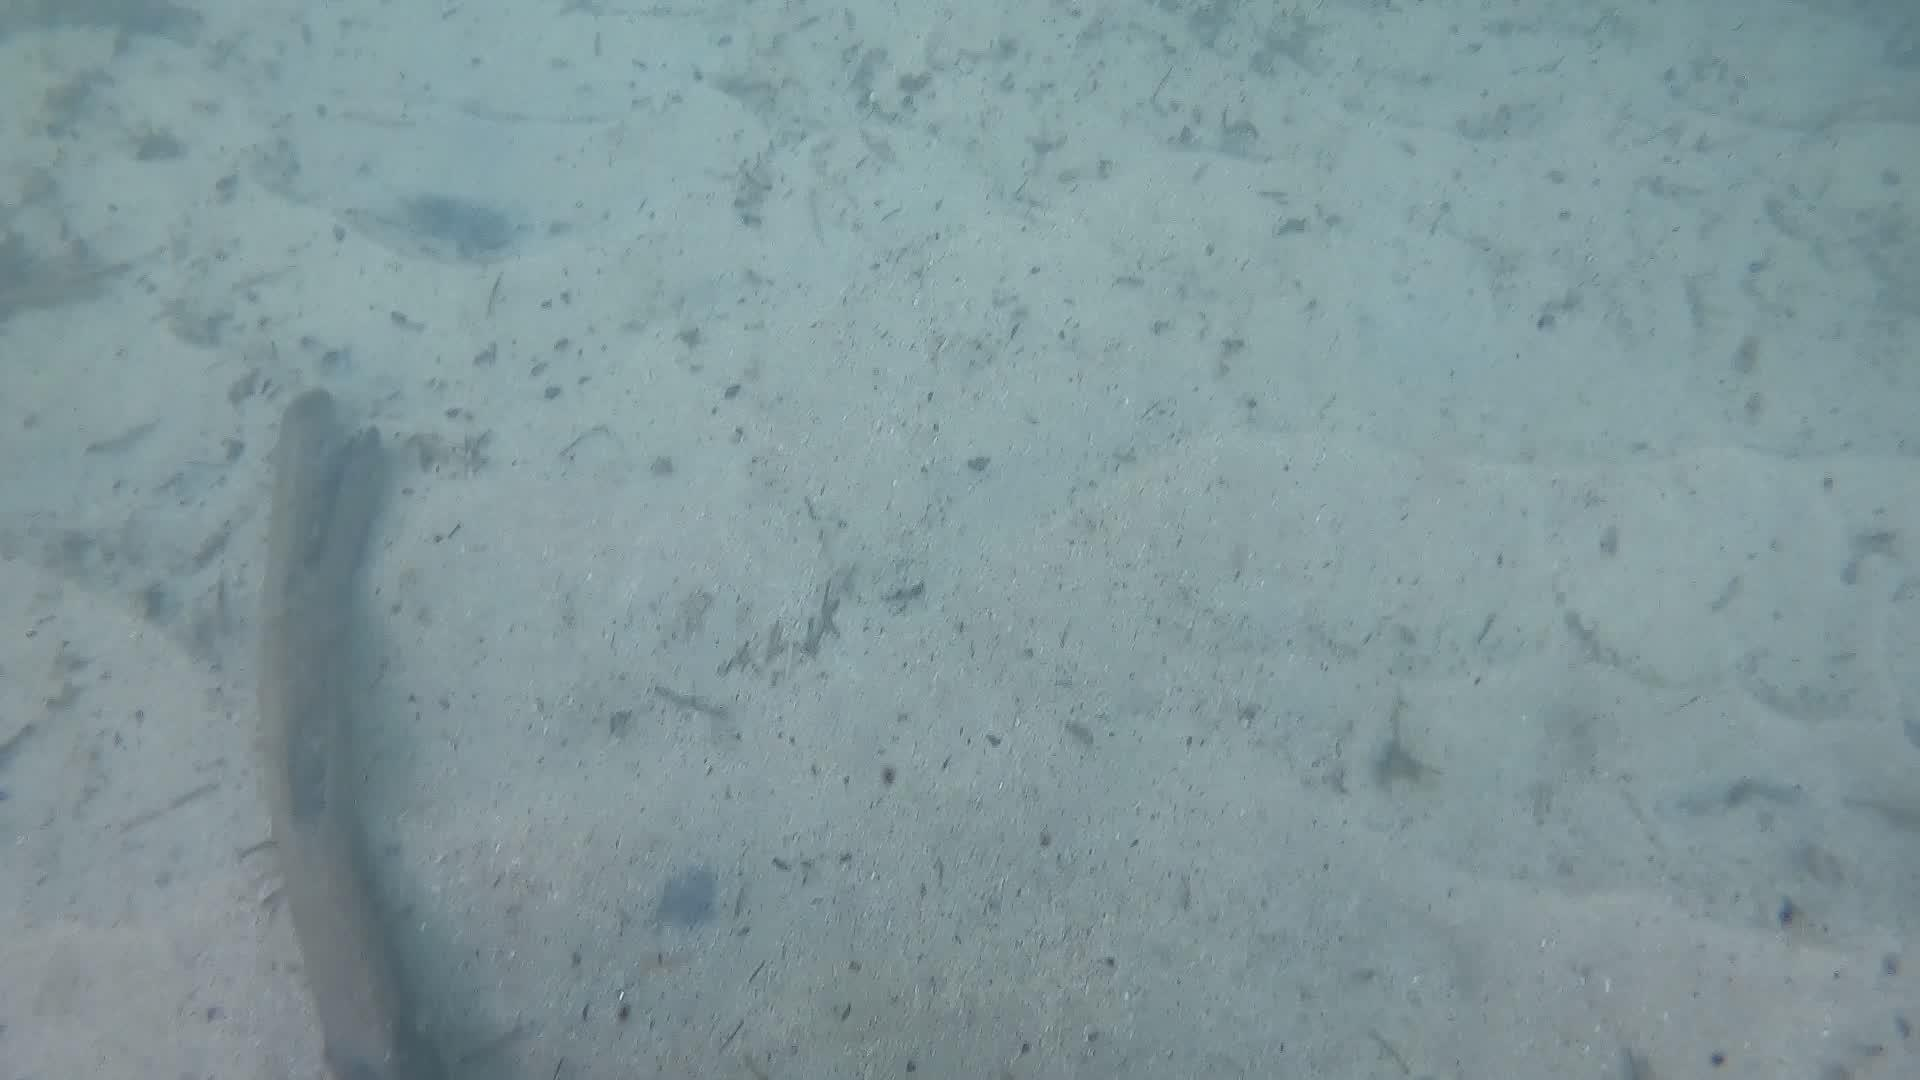wood: (255, 394, 436, 1080)
